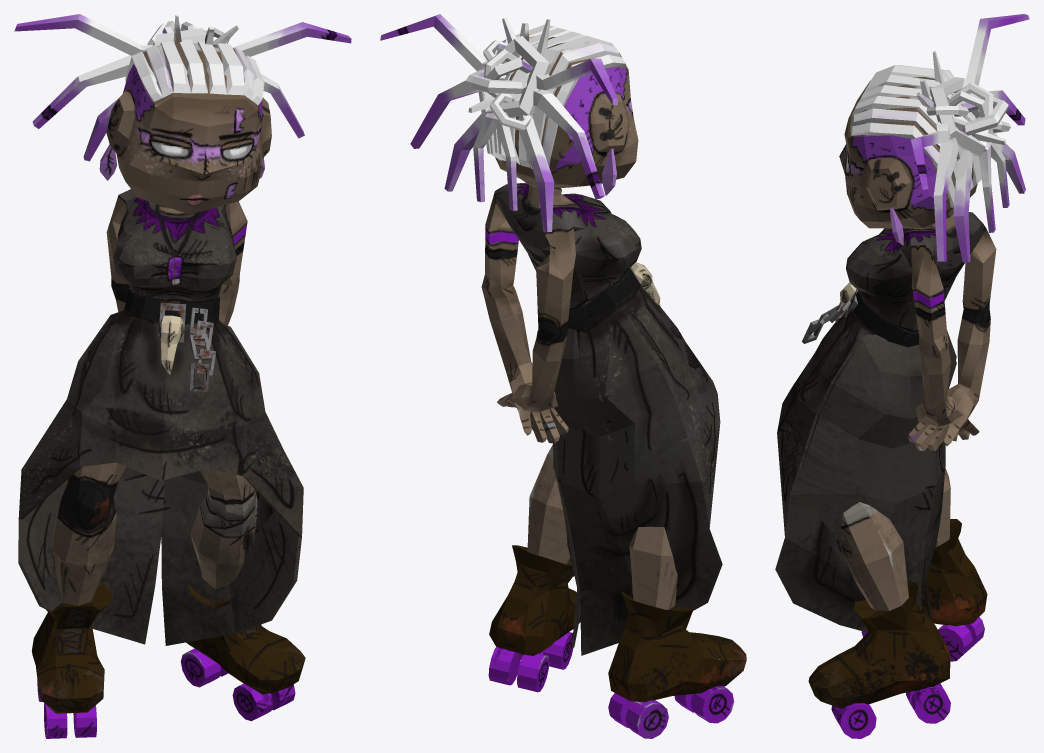
The model's file is bruja_000002.obj.
The picture shows the model from 3 angles, left to right: view 1: azimuth 30°, elevation 25°; view 2: azimuth 150°, elevation 25°; view 3: azimuth 270°, elevation 25°; orthographic projection. The views are drawn at different scales.
Parts seen in each view (by area): view 1: Bruja_Plane.001; view 2: Bruja_Plane.001; view 3: Bruja_Plane.001.
Part boxes in pixels (left/top/right/bottom): Bruja_Plane.001: left=14, top=14, right=351, bottom=738; Bruja_Plane.001: left=380, top=14, right=746, bottom=738; Bruja_Plane.001: left=775, top=14, right=1029, bottom=738.
Bounding box in the file's own units: 8.29 × 16.11 × 5.63.
